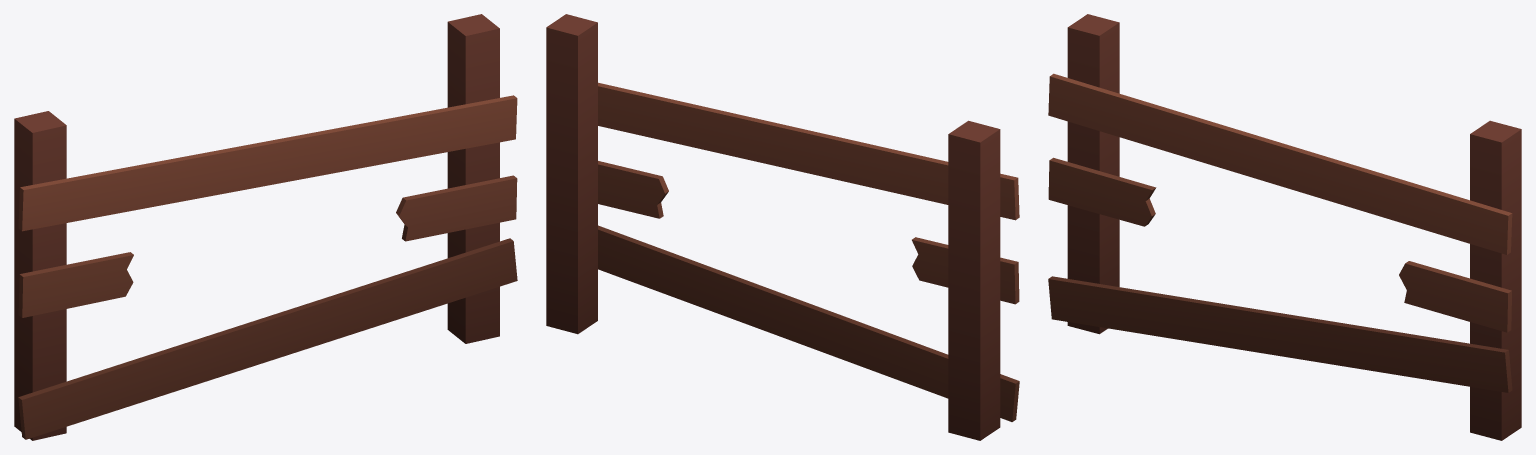
Rendered from farmpack2023fence03.fbx.
The picture shows the model from 3 angles, left to right: view 1: azimuth 30°, elevation 25°; view 2: azimuth 150°, elevation 25°; view 3: azimuth 330°, elevation 25°; orthographic projection. The views are drawn at different scales.
Visible parts, largest first — view 1: farmpack2023fence03; view 2: farmpack2023fence03; view 3: farmpack2023fence03.
Boxes of the visible parts, x1,y1,x2,y2 form: farmpack2023fence03: (14, 14, 517, 440); farmpack2023fence03: (546, 14, 1019, 440); farmpack2023fence03: (1048, 14, 1521, 440).
Size of the model in its own units: 0.365 by 2.97 by 1.8.
